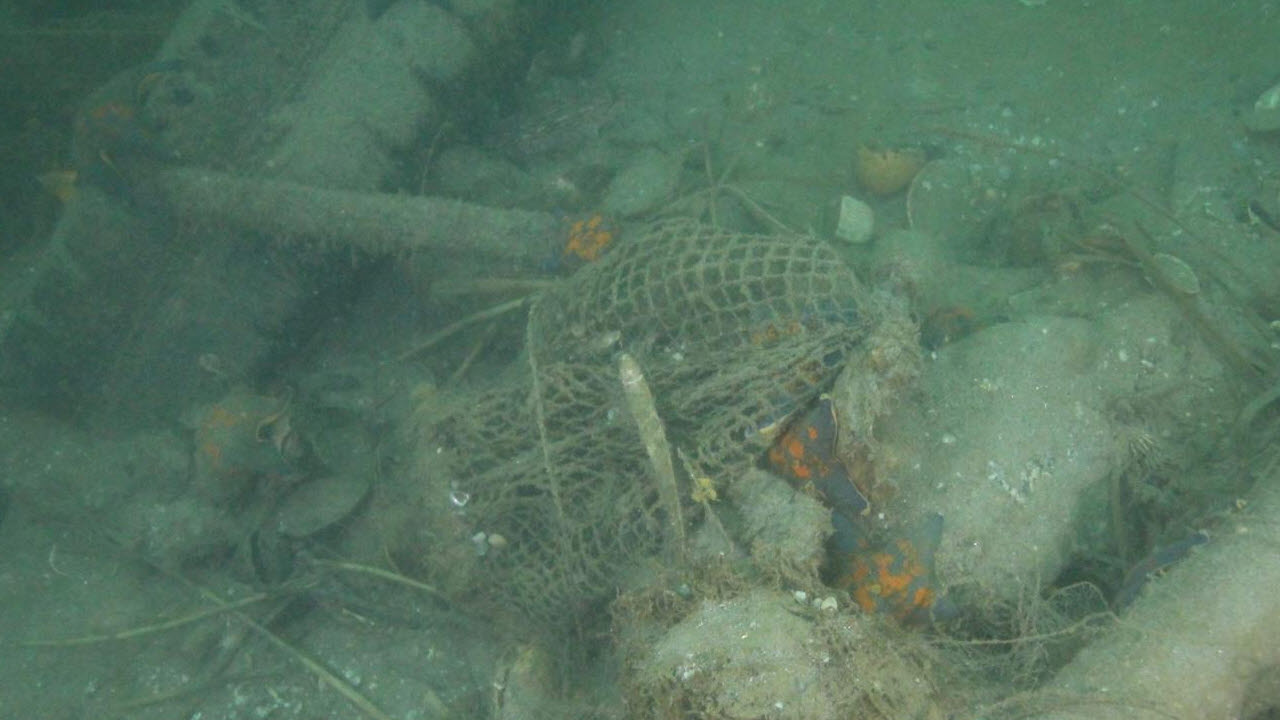fish net: (446, 215, 874, 627)
